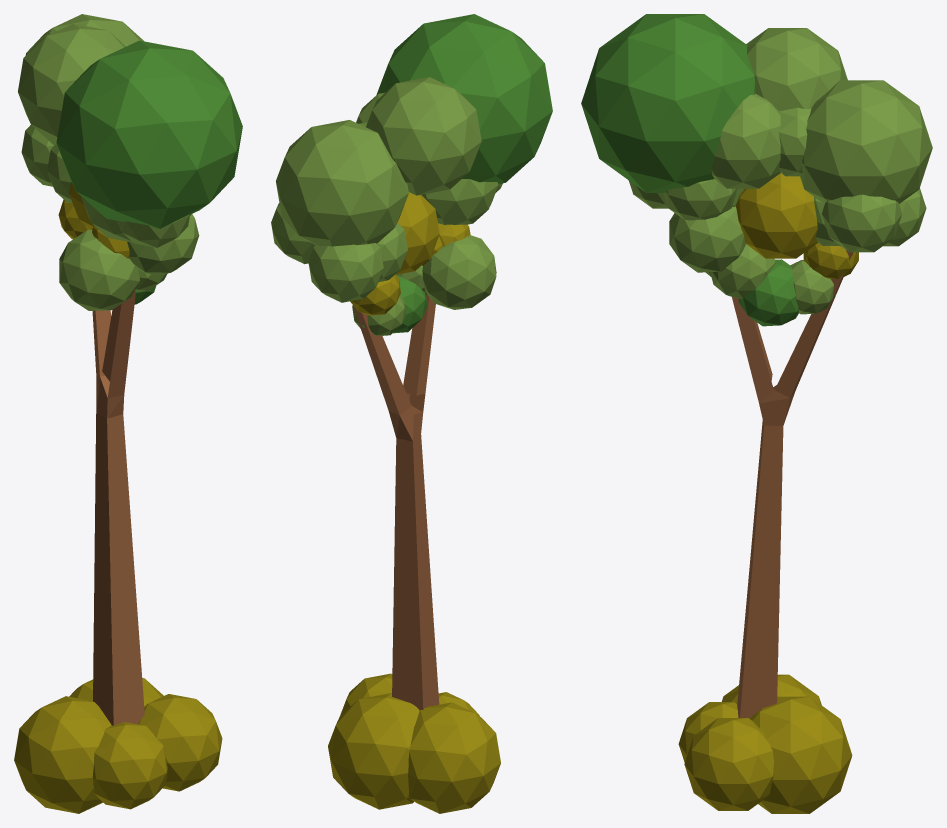
Rendered from tree1.fbx.
3 renders of one model, left to right at view 1: azimuth 30°, elevation 25°; view 2: azimuth 150°, elevation 25°; view 3: azimuth 270°, elevation 25°, orthographic. The views are drawn at different scales.
Visible parts, largest first — view 1: Icosphere.001, Plane.001, Icosphere.023, Icosphere.010, Icosphere.020, Icosphere.022, Icosphere.011, Icosphere.019, Icosphere.007, Icosphere.005, Icosphere.002, Icosphere.004 (+5 smaller); view 2: Icosphere.001, Plane.001, Icosphere.002, Icosphere.010, Icosphere.023, Icosphere.021, Icosphere.011, Icosphere.005, Icosphere.009, Icosphere.015, Icosphere.003, Icosphere.018 (+5 smaller); view 3: Icosphere.001, Plane.001, Icosphere.002, Icosphere.021, Icosphere.020, Icosphere.010, Icosphere.015, Icosphere.008, Icosphere.003, Icosphere.019, Icosphere.016, Icosphere.000 (+7 smaller).
Boxes of the visible parts, x1,y1,x2,y2 form: Icosphere.001: (56,40,242,228); Plane.001: (92,291,144,725); Icosphere.023: (14,696,111,813); Icosphere.010: (18,23,125,143); Icosphere.020: (138,694,222,791); Icosphere.022: (92,722,167,809); Icosphere.011: (59,230,139,310); Icosphere.019: (127,214,199,276); Icosphere.007: (117,215,189,247); Icosphere.005: (21,124,54,186); Icosphere.002: (25,14,143,145); Icosphere.004: (47,144,71,202); Icosphere.001: (376,14,552,183); Plane.001: (353,294,439,710); Icosphere.002: (276,120,408,246); Icosphere.010: (366,77,481,195); Icosphere.023: (408,702,500,813); Icosphere.021: (328,693,419,809); Icosphere.011: (422,235,496,309); Icosphere.005: (308,243,383,302); Icosphere.009: (421,179,498,224); Icosphere.015: (396,192,439,274); Icosphere.003: (271,203,314,264); Icosphere.018: (350,274,400,315); Icosphere.001: (581,14,755,192); Plane.001: (732,250,853,718); Icosphere.002: (800,80,932,204); Icosphere.021: (750,696,852,813); Icosphere.020: (684,718,774,810); Icosphere.010: (746,28,847,111); Icosphere.015: (735,173,818,258); Icosphere.008: (711,93,780,188); Icosphere.003: (822,194,901,252); Icosphere.019: (669,206,745,272); Icosphere.016: (738,259,798,326); Icosphere.000: (663,179,736,220).
Size of the model in its own units: 157 by 649 by 265.
